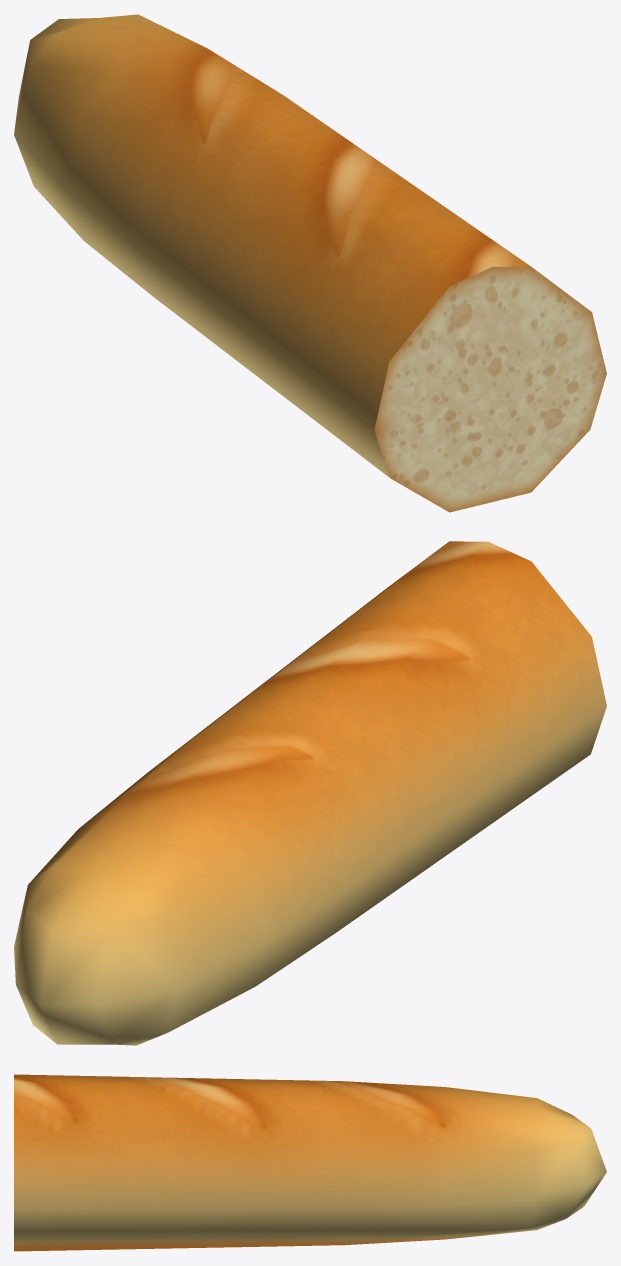
The model's file is Baguette_01_Half.fbx.
The picture shows the model from 3 angles, top to bottom: view 1: azimuth 30°, elevation 25°; view 2: azimuth 150°, elevation 25°; view 3: azimuth 270°, elevation 25°; orthographic projection. The views are drawn at different scales.
Visible parts, largest first — view 1: Baguette_01_Half; view 2: Baguette_01_Half; view 3: Baguette_01_Half.
Boxes of the visible parts, x1,y1,x2,y2 form: Baguette_01_Half: [14, 14, 606, 512]; Baguette_01_Half: [14, 541, 606, 1045]; Baguette_01_Half: [14, 1074, 606, 1251].
Size of the model in its own units: 20.71 by 20 by 68.71.
